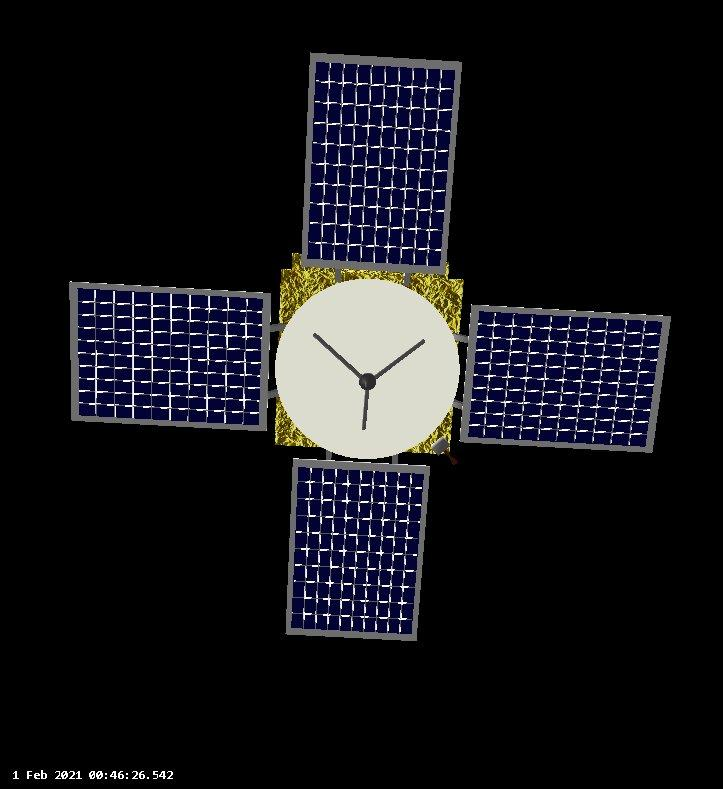antenna: (274, 277, 462, 461)
body: (273, 255, 468, 457)
solar: (297, 49, 463, 276), (456, 300, 674, 457), (64, 275, 271, 434), (279, 454, 435, 645)
